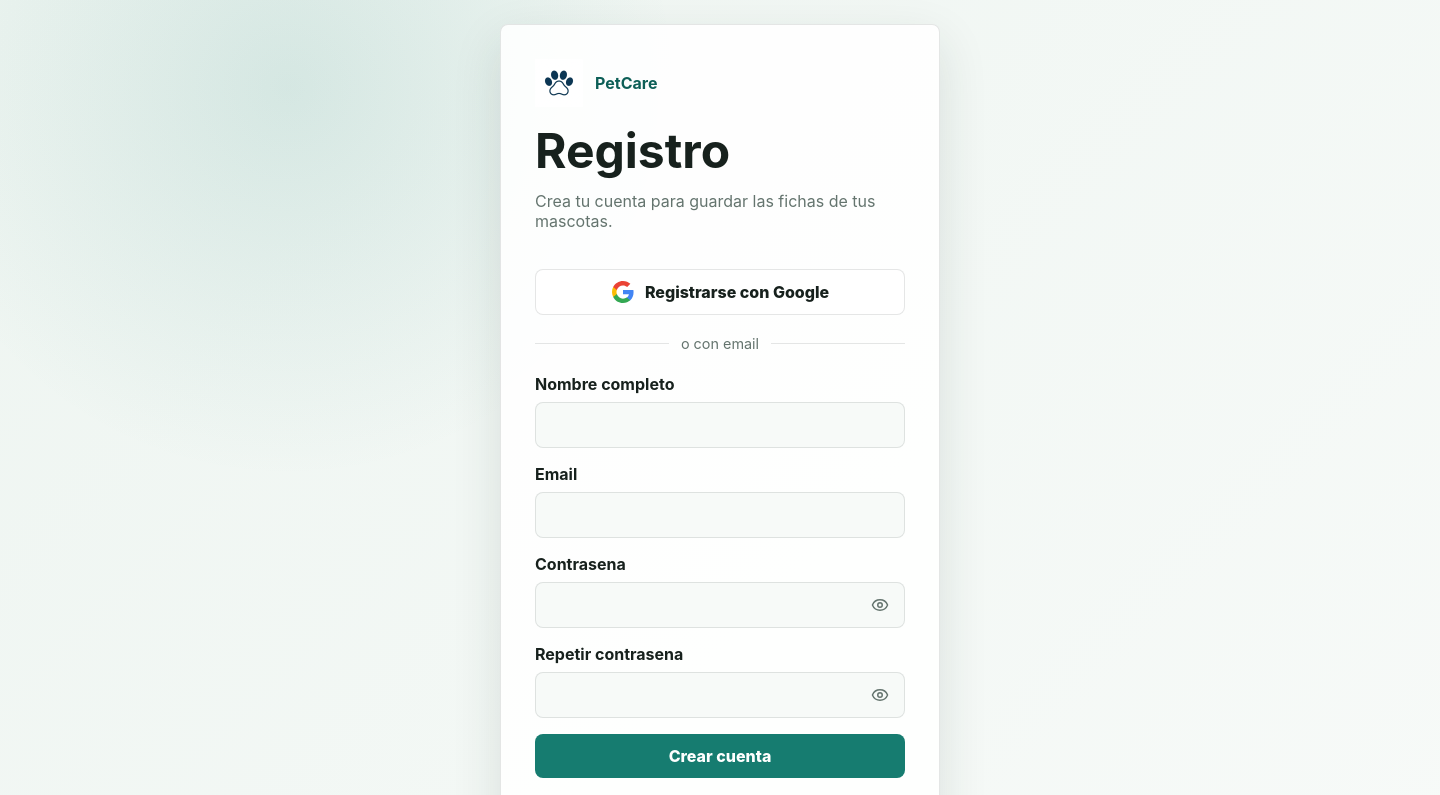
Test: Register — lo que ve el usuario › muestra error si el email ya está registrado
Step 1. Type "Maria Lopez" into the field labelled "Nombre completo" → (720,425), box [535,402,905,448]
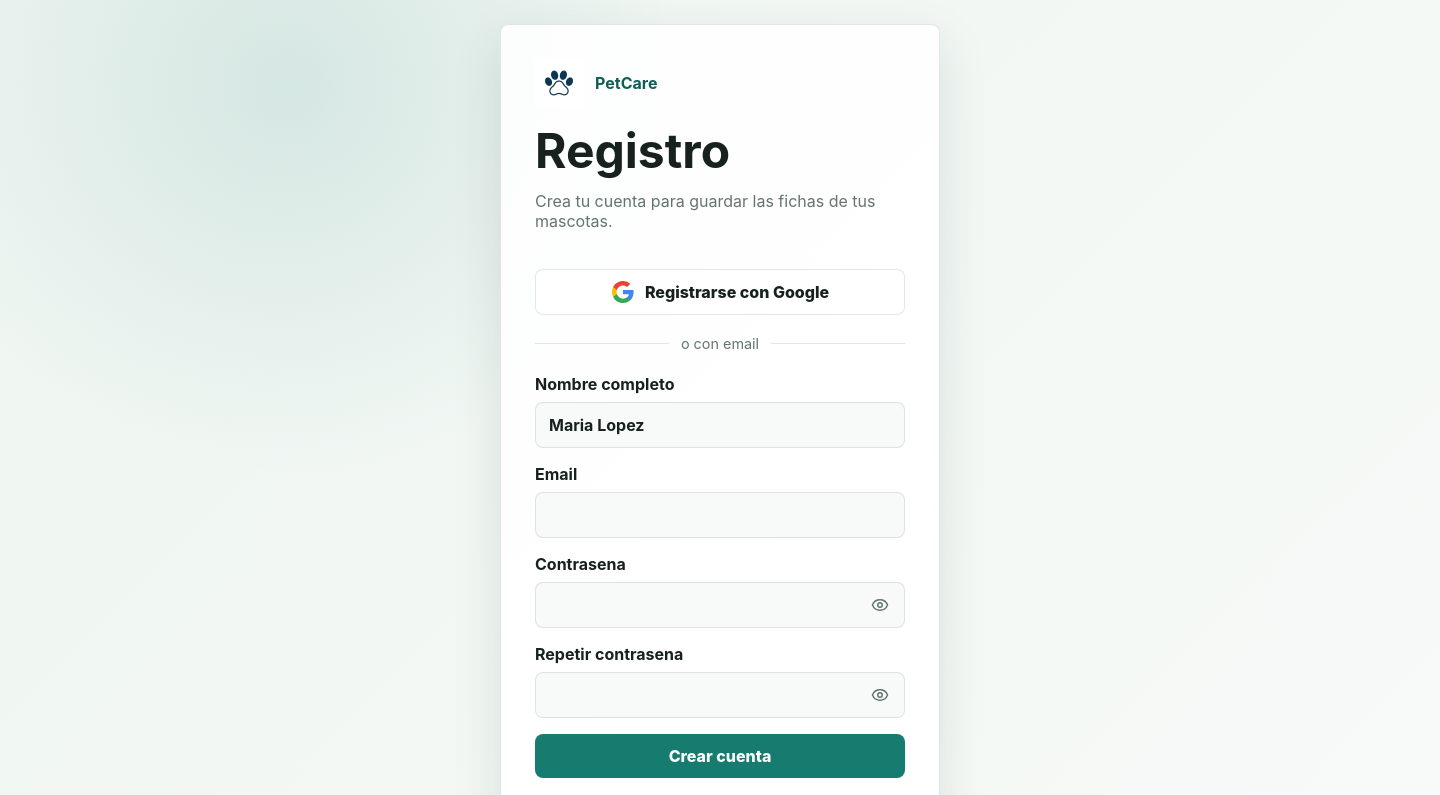
Step 2. Type "existente@test.com" into the field labelled "Email" → (720,515), box [535,492,905,538]
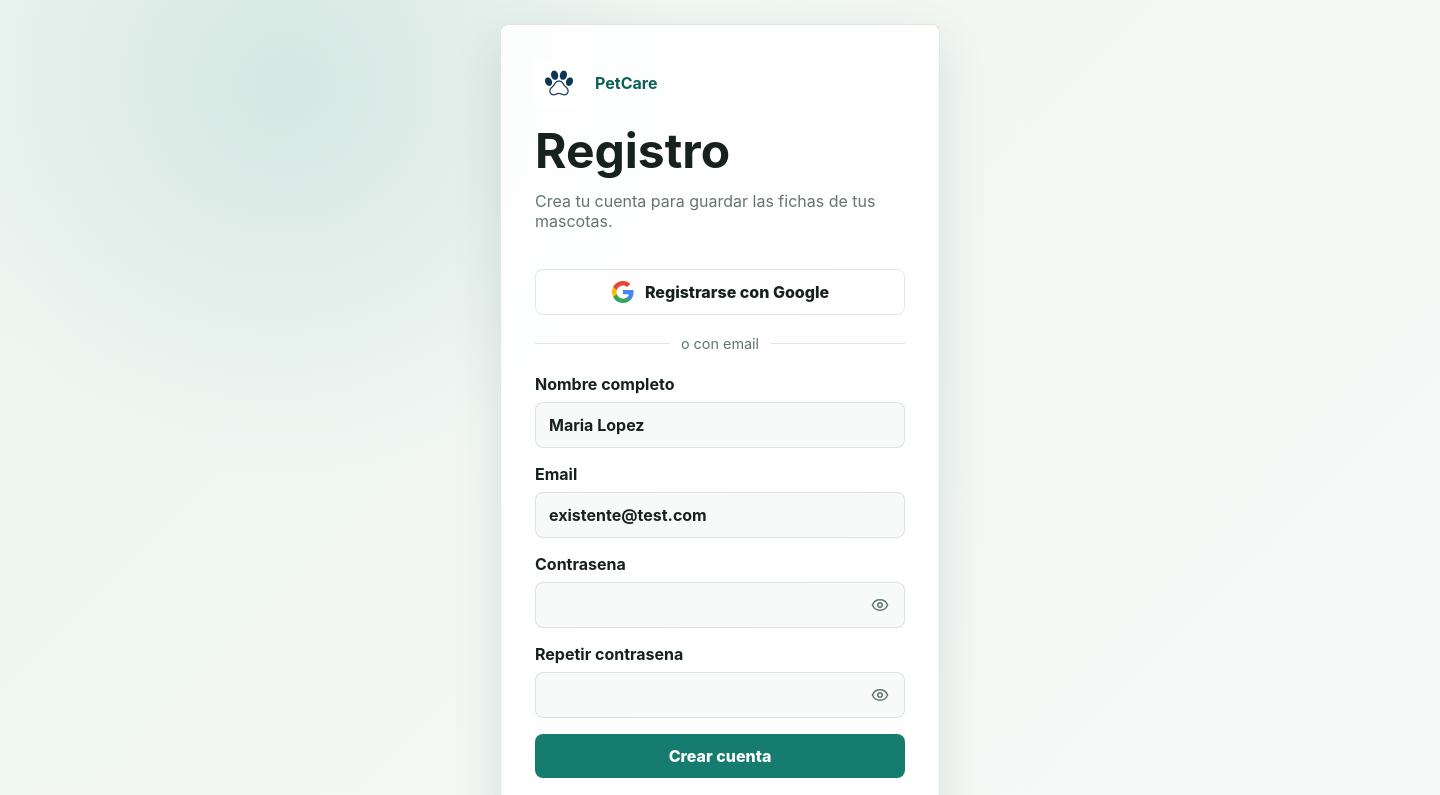
Step 3. Type "password123" into the password field labelled "Contrasena" → (720,605), box [535,582,905,628]
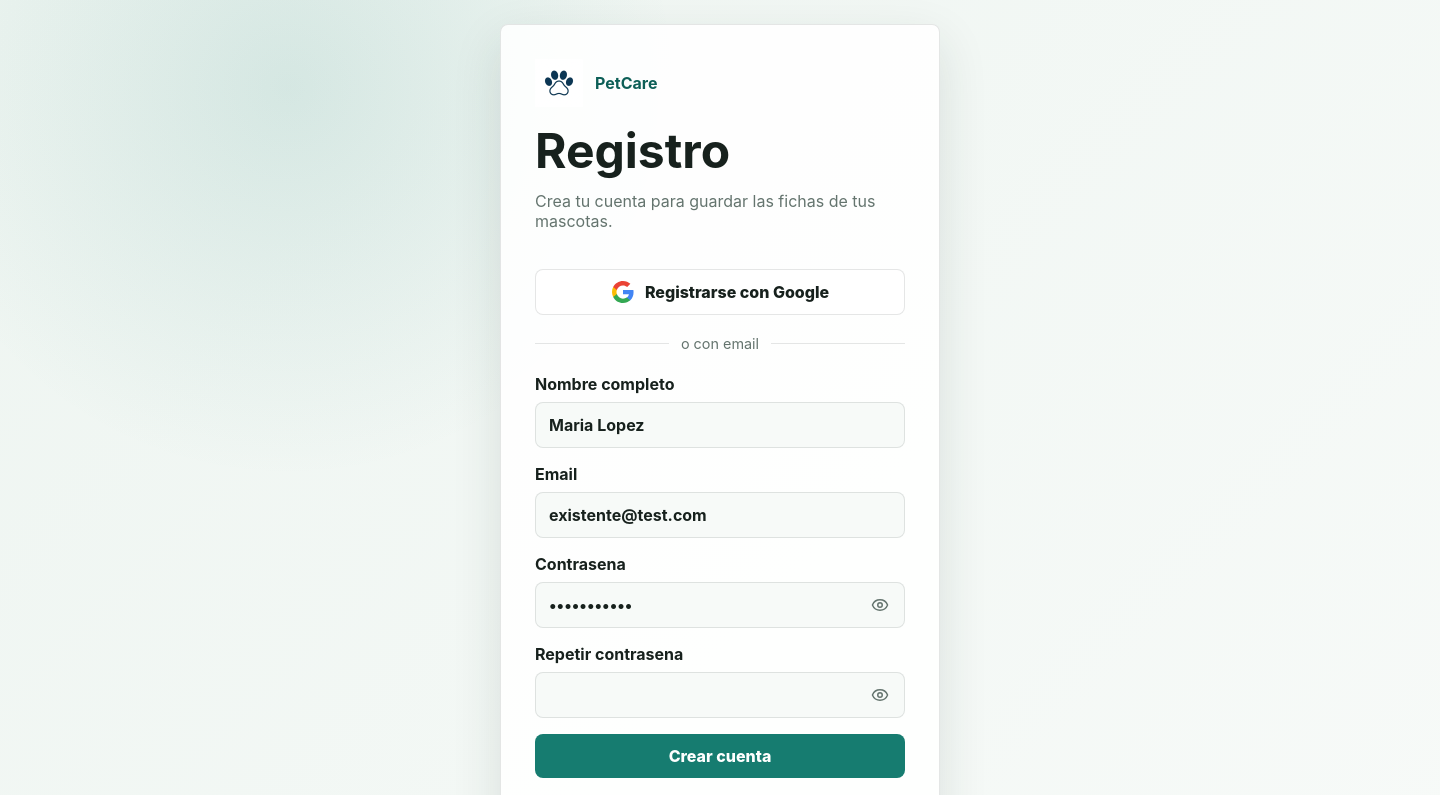
Step 4. Type "password123" into the password field labelled "Repetir contrasena" → (720,695), box [535,672,905,718]
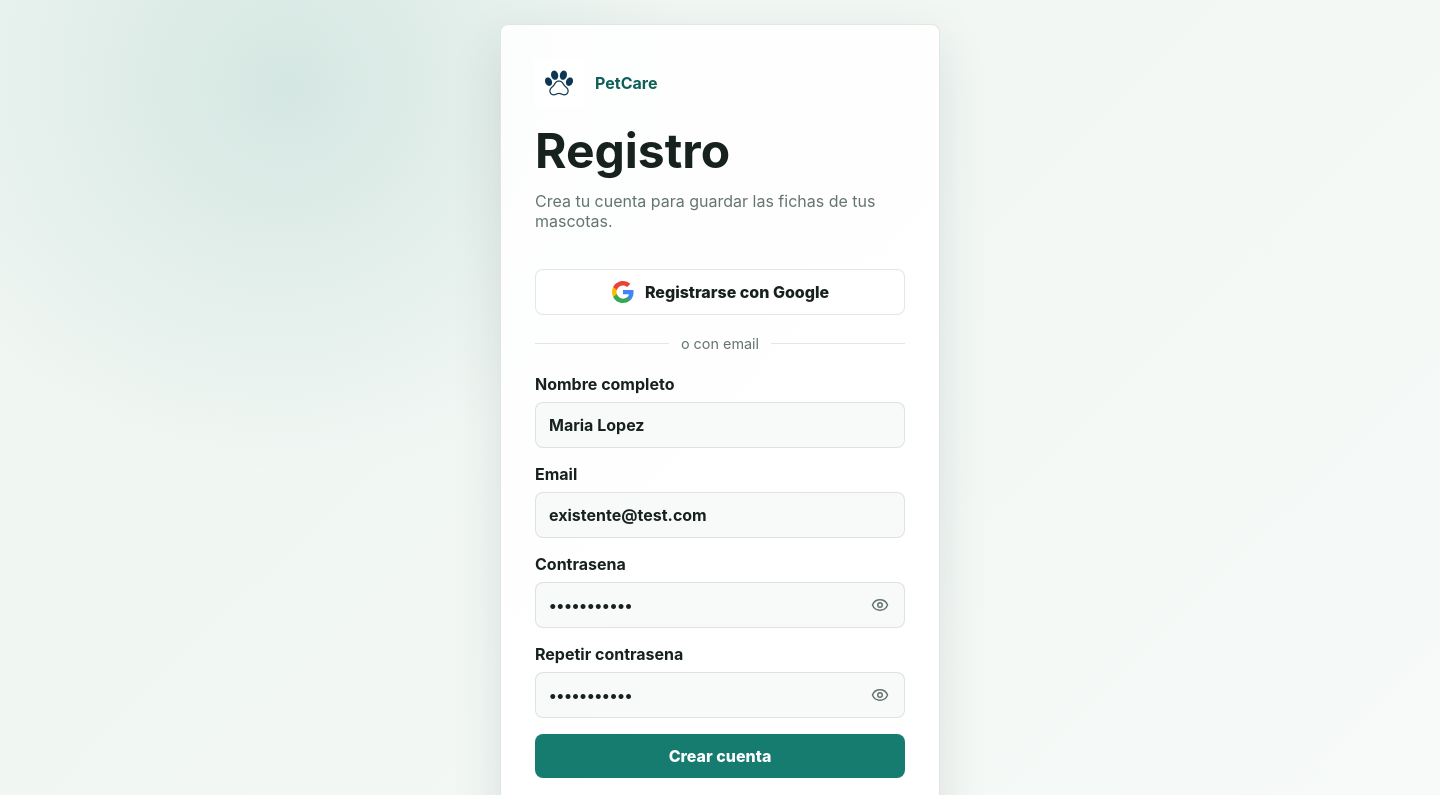
Step 5. Click the button "Crear cuenta" → (720,756), box [535,734,905,778]
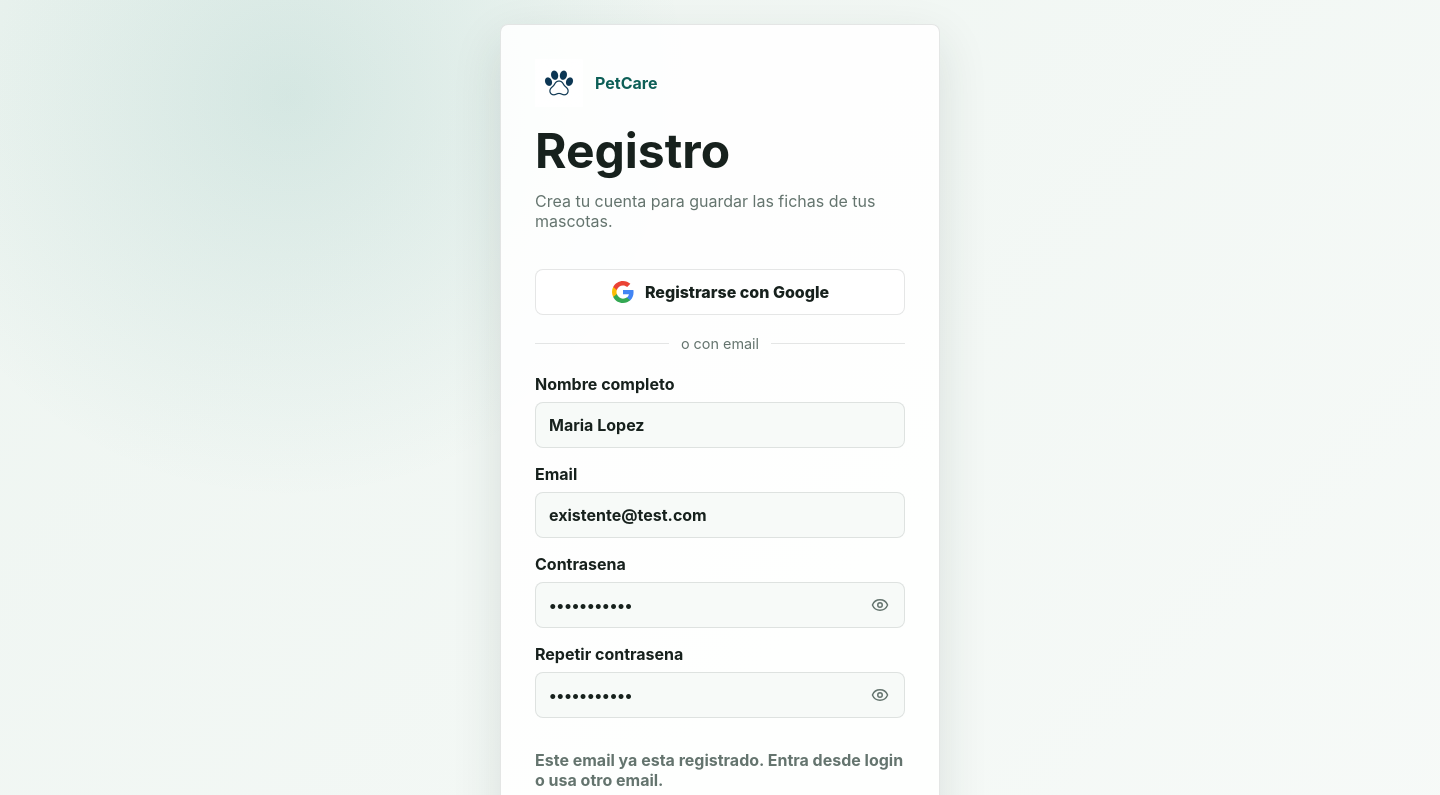
Expected: the text "Este email ya esta registrado" is shown, [535,750,903,790]
